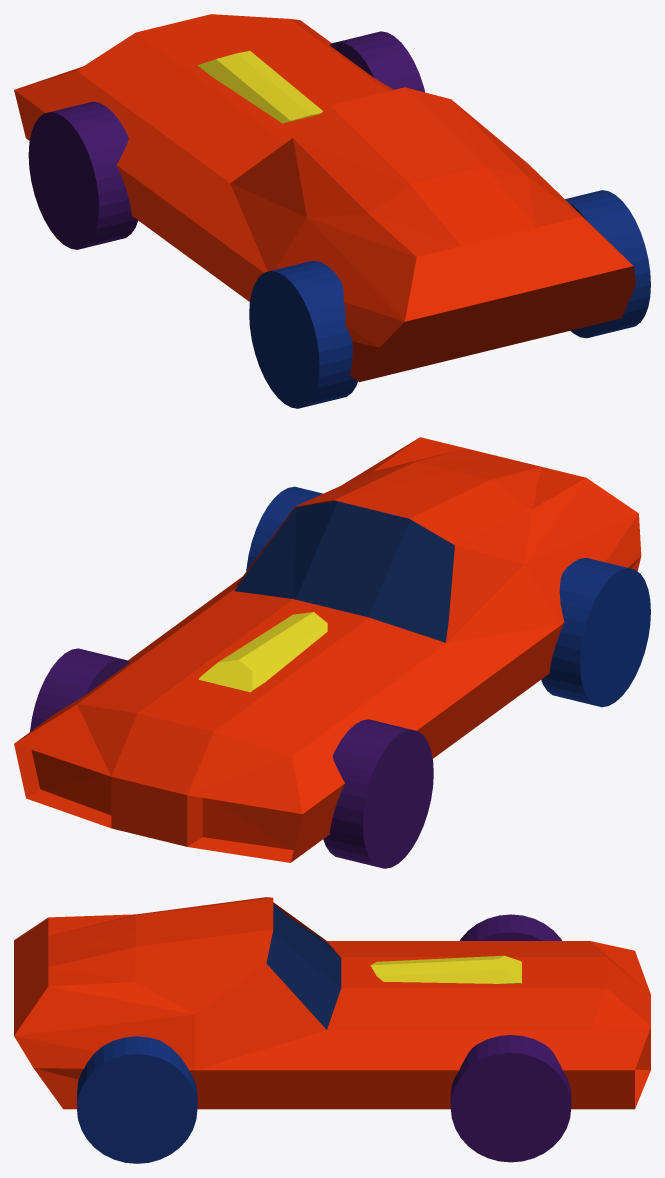
The model's file is basic_car_rotate_y_180.glb.
3 views of the same model, one above another, from view 1: azimuth 30°, elevation 25°; view 2: azimuth 150°, elevation 25°; view 3: azimuth 270°, elevation 25° (orthographic). The views are drawn at different scales.
Parts seen in each view (by area): view 1: Cube, Cylinder.003, Cylinder, Cylinder.002, Cylinder.004, Cylinder.001; view 2: Cube, Winsdhield, Cylinder, Cylinder.003, Cylinder.004, Cylinder.001, Cylinder.002; view 3: Cube, Cylinder.002, Cylinder.001, Winsdhield, Cylinder.004, Cylinder.
Boxes of the visible parts, box(x1,y1,x2,y2) form: Cube: box(14, 14, 635, 382); Cylinder.003: box(249, 261, 357, 408); Cylinder: box(28, 101, 138, 249); Cylinder.002: box(565, 190, 650, 338); Cylinder.004: box(197, 51, 322, 123); Cylinder.001: box(330, 31, 424, 92); Cube: box(14, 437, 641, 862); Winsdhield: box(234, 500, 454, 642); Cylinder: box(323, 719, 433, 868); Cylinder.003: box(541, 558, 650, 707); Cylinder.004: box(199, 612, 327, 692); Cylinder.001: box(30, 648, 129, 731); Cylinder.002: box(246, 486, 322, 571); Cube: box(14, 897, 650, 1109); Cylinder.002: box(77, 1036, 197, 1163); Cylinder.001: box(450, 1035, 571, 1162); Winsdhield: box(266, 904, 341, 1029); Cylinder.004: box(370, 955, 521, 983); Cylinder: box(459, 914, 561, 940).
Bounding box in the file's own units: 3.14 × 1.88 × 6.04.
